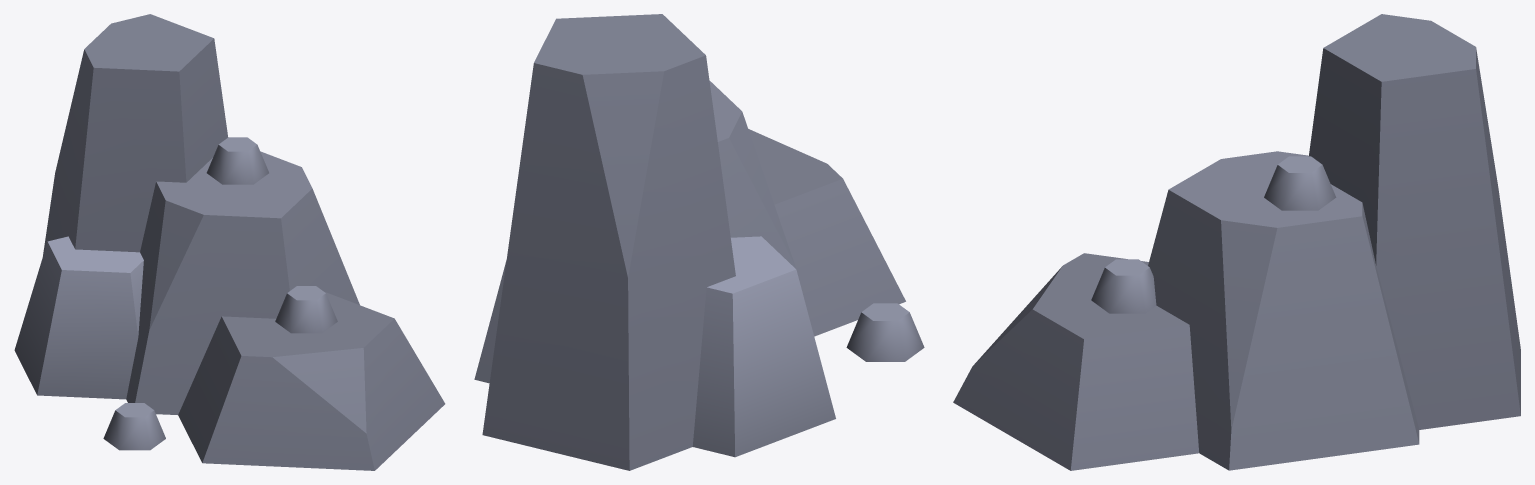
Rendered from boulder.glb.
The picture shows the model from 3 angles, left to right: view 1: azimuth 30°, elevation 25°; view 2: azimuth 150°, elevation 25°; view 3: azimuth 270°, elevation 25°; orthographic projection. The views are drawn at different scales.
Visible parts, largest first — view 1: rock-wide.001; view 2: rock-wide.001; view 3: rock-wide.001.
Boxes of the visible parts, <box> form: rock-wide.001: <box>14,14,445,470</box>; rock-wide.001: <box>474,14,924,470</box>; rock-wide.001: <box>953,14,1520,470</box>.
Bounding box in the file's own units: 0.6561 × 0.612 × 0.9405.
